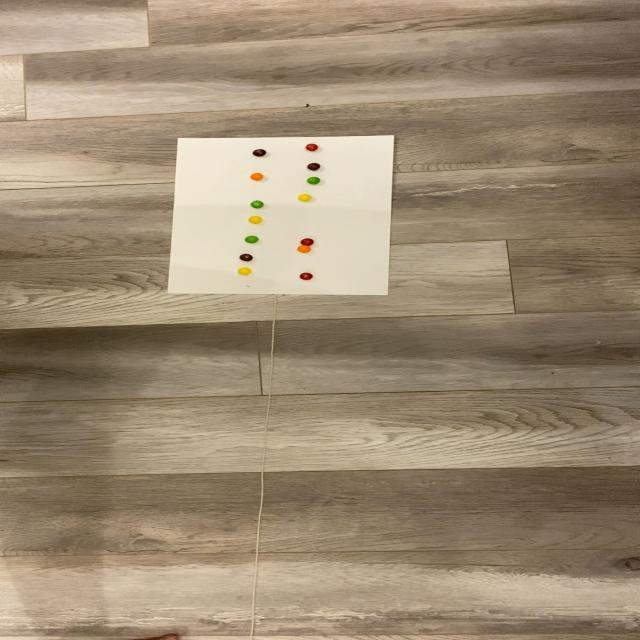smartie: (300, 238, 315, 247), (239, 253, 253, 262), (297, 193, 311, 202), (248, 216, 262, 225), (238, 267, 252, 276), (244, 236, 259, 244), (248, 200, 263, 208), (306, 176, 321, 184), (251, 173, 265, 181), (305, 144, 319, 152), (299, 273, 313, 281), (252, 149, 266, 156), (306, 163, 320, 170), (298, 246, 312, 253)
